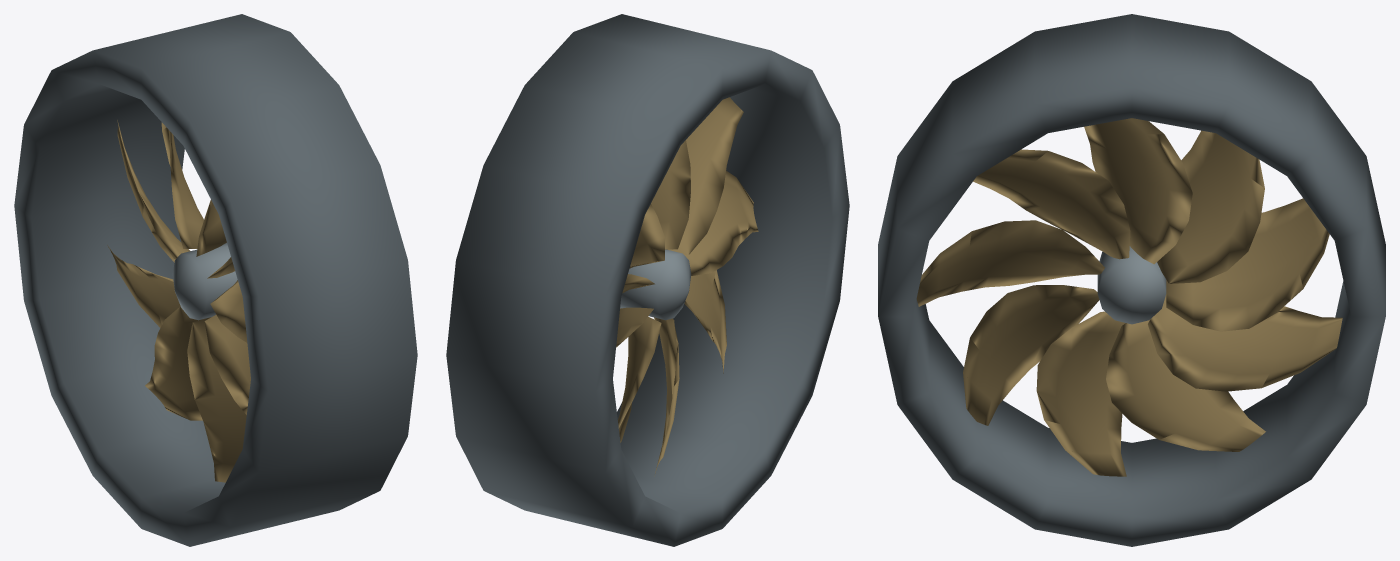
The model's file is THRUSTER_RIM_DRIVEN_LOD2.fbx.
The picture shows the model from 3 angles, left to right: view 1: azimuth 30°, elevation 25°; view 2: azimuth 150°, elevation 25°; view 3: azimuth 270°, elevation 25°; orthographic projection.
Parts seen in each view (by area): view 1: THRUSTER_RIM_DRIVEN_LOD2_Duct.001, THRUSTER_RIM_DRIVEN_LOD2_Impeller_06.001, THRUSTER_RIM_DRIVEN_LOD2_Impeller_07.001, THRUSTER_RIM_DRIVEN_LOD2_Hub.001, THRUSTER_RIM_DRIVEN_LOD2_Impeller_05.001, THRUSTER_RIM_DRIVEN_LOD2_Impeller_08.001, THRUSTER_RIM_DRIVEN_LOD2_Impeller_01.001, THRUSTER_RIM_DRIVEN_LOD2_Impeller_00.001, THRUSTER_RIM_DRIVEN_LOD2_Impeller_04.001, THRUSTER_RIM_DRIVEN_LOD2_Impeller_02.001; view 2: THRUSTER_RIM_DRIVEN_LOD2_Duct.001, THRUSTER_RIM_DRIVEN_LOD2_Impeller_03.001, THRUSTER_RIM_DRIVEN_LOD2_Impeller_04.001, THRUSTER_RIM_DRIVEN_LOD2_Hub.001, THRUSTER_RIM_DRIVEN_LOD2_Impeller_02.001, THRUSTER_RIM_DRIVEN_LOD2_Impeller_05.001, THRUSTER_RIM_DRIVEN_LOD2_Impeller_07.001, THRUSTER_RIM_DRIVEN_LOD2_Impeller_06.001, THRUSTER_RIM_DRIVEN_LOD2_Impeller_01.001, THRUSTER_RIM_DRIVEN_LOD2_Impeller_08.001; view 3: THRUSTER_RIM_DRIVEN_LOD2_Duct.001, THRUSTER_RIM_DRIVEN_LOD2_Impeller_08.001, THRUSTER_RIM_DRIVEN_LOD2_Impeller_00.001, THRUSTER_RIM_DRIVEN_LOD2_Impeller_07.001, THRUSTER_RIM_DRIVEN_LOD2_Impeller_01.001, THRUSTER_RIM_DRIVEN_LOD2_Impeller_06.001, THRUSTER_RIM_DRIVEN_LOD2_Impeller_05.001, THRUSTER_RIM_DRIVEN_LOD2_Impeller_02.001, THRUSTER_RIM_DRIVEN_LOD2_Impeller_04.001, THRUSTER_RIM_DRIVEN_LOD2_Impeller_03.001, THRUSTER_RIM_DRIVEN_LOD2_Hub.001.
Boxes of the visible parts, x1,y1,x2,y2 form: THRUSTER_RIM_DRIVEN_LOD2_Duct.001: [14, 14, 417, 546]; THRUSTER_RIM_DRIVEN_LOD2_Impeller_06.001: [187, 318, 246, 482]; THRUSTER_RIM_DRIVEN_LOD2_Impeller_07.001: [145, 306, 210, 420]; THRUSTER_RIM_DRIVEN_LOD2_Hub.001: [172, 242, 237, 320]; THRUSTER_RIM_DRIVEN_LOD2_Impeller_05.001: [204, 314, 250, 414]; THRUSTER_RIM_DRIVEN_LOD2_Impeller_08.001: [107, 245, 180, 327]; THRUSTER_RIM_DRIVEN_LOD2_Impeller_01.001: [161, 122, 203, 248]; THRUSTER_RIM_DRIVEN_LOD2_Impeller_00.001: [117, 120, 190, 262]; THRUSTER_RIM_DRIVEN_LOD2_Impeller_04.001: [210, 280, 247, 342]; THRUSTER_RIM_DRIVEN_LOD2_Impeller_02.001: [196, 200, 226, 256]; THRUSTER_RIM_DRIVEN_LOD2_Duct.001: [446, 14, 849, 546]; THRUSTER_RIM_DRIVEN_LOD2_Impeller_03.001: [668, 97, 743, 255]; THRUSTER_RIM_DRIVEN_LOD2_Impeller_04.001: [683, 170, 758, 275]; THRUSTER_RIM_DRIVEN_LOD2_Hub.001: [620, 249, 691, 320]; THRUSTER_RIM_DRIVEN_LOD2_Impeller_02.001: [651, 140, 690, 249]; THRUSTER_RIM_DRIVEN_LOD2_Impeller_05.001: [684, 270, 726, 373]; THRUSTER_RIM_DRIVEN_LOD2_Impeller_07.001: [618, 316, 661, 442]; THRUSTER_RIM_DRIVEN_LOD2_Impeller_06.001: [654, 317, 679, 476]; THRUSTER_RIM_DRIVEN_LOD2_Impeller_01.001: [629, 204, 664, 268]; THRUSTER_RIM_DRIVEN_LOD2_Impeller_08.001: [616, 307, 653, 347]; THRUSTER_RIM_DRIVEN_LOD2_Duct.001: [878, 14, 1385, 546]; THRUSTER_RIM_DRIVEN_LOD2_Impeller_08.001: [1148, 294, 1342, 391]; THRUSTER_RIM_DRIVEN_LOD2_Impeller_00.001: [1166, 198, 1329, 331]; THRUSTER_RIM_DRIVEN_LOD2_Impeller_07.001: [1106, 320, 1265, 451]; THRUSTER_RIM_DRIVEN_LOD2_Impeller_01.001: [1157, 130, 1264, 283]; THRUSTER_RIM_DRIVEN_LOD2_Impeller_06.001: [1036, 311, 1126, 476]; THRUSTER_RIM_DRIVEN_LOD2_Impeller_05.001: [963, 285, 1099, 425]; THRUSTER_RIM_DRIVEN_LOD2_Impeller_02.001: [1084, 118, 1192, 264]; THRUSTER_RIM_DRIVEN_LOD2_Impeller_04.001: [916, 220, 1104, 306]; THRUSTER_RIM_DRIVEN_LOD2_Impeller_03.001: [973, 149, 1130, 259]; THRUSTER_RIM_DRIVEN_LOD2_Hub.001: [1097, 246, 1166, 324].
Size of the model in its own units: 55 by 162 by 162.
